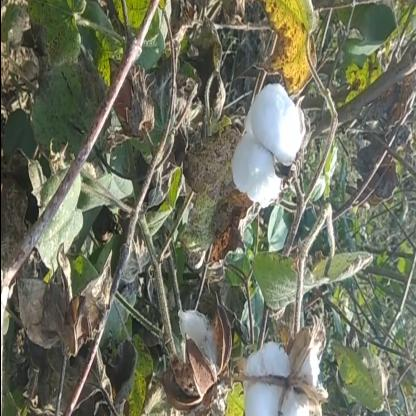cotton_ready: (221, 62, 303, 226), (249, 318, 328, 416)
